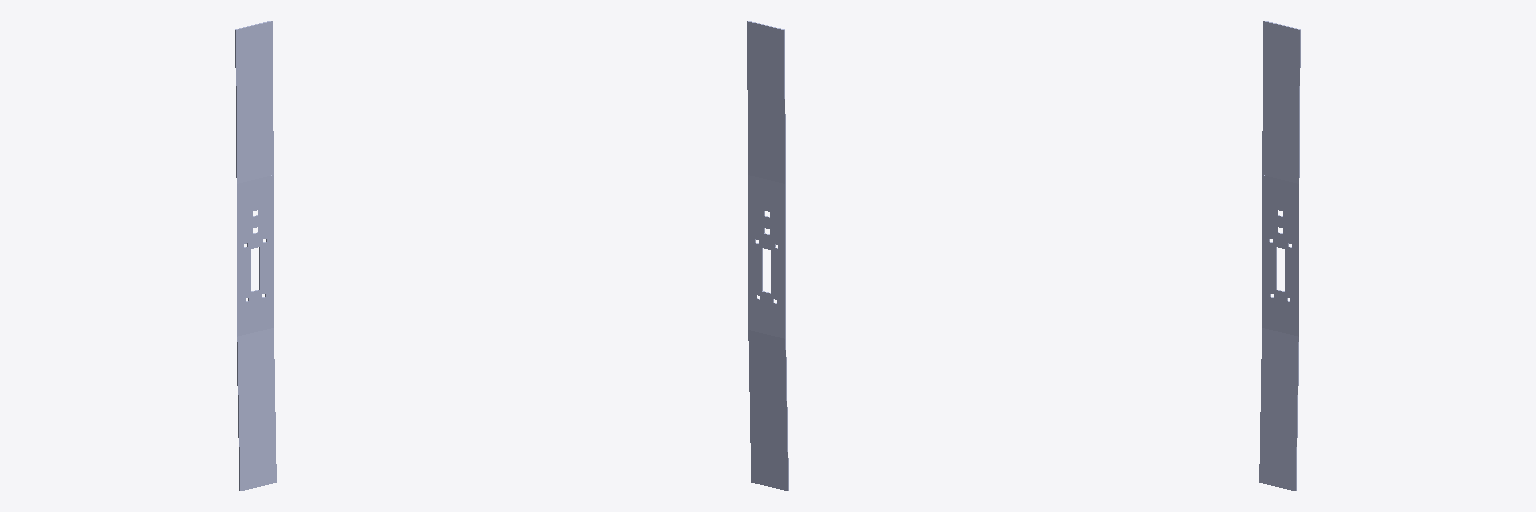
The robot description file, URDF, robot "Smarticle_v3":
<?xml version="1.0" encoding="utf-8"?>
<!-- This URDF was automatically created by SolidWorks to URDF Exporter! Originally created by [author] ([email redacted]) 
     Commit Version: 1.6.0-4-g7f85cfe  Build Version: 1.6.7995.38578
     For more information, please see http://wiki.ros.org/sw_urdf_exporter -->
<robot
  name="Smarticle_v3">
  <link
    name="base_linkv2">
    <contact>
        <lateral_friction value="0.15"/>
        <angular_friction value="0.3"/>
    </contact>
    <inertial>
      <origin
        xyz="-1.4344E-18 0.0004 0.00042795"
        rpy="0 0 0" />
      <mass
        value="0.0011628" />
      <inertia
        ixx="6.6584E-07"
        ixy="-6.5952E-26"
        ixz="-5.8585E-23"
        iyy="7.0794E-07"
        iyz="-2.635E-25"
        izz="4.2217E-08" />
    </inertial>
    <visual>
      <origin
        xyz="0 0 0"
        rpy="0 0 0" />
      <geometry>
        <mesh
          filename="../meshes/base_linkv2.STL" />
      </geometry>
      <material
        name="">
        <color
          rgba="0.79216 0.81961 0.93333 1" />
      </material>
    </visual>
    <collision>
      <origin
        xyz="0 0 0"
        rpy="0 0 0" />
      <geometry>
        <mesh
          filename="../meshes/base_linkv2.STL" />
      </geometry>
    </collision>
  </link>
  <link
    name="arm_leftv2">
    <contact>
        <lateral_friction value="0."/>
    </contact>
    <inertial>
      <origin
        xyz="6.4743188575433E-18 -0.00113539066808381 -0.00169513563308003"
        rpy="0 0 0" />
      <mass
        value="0.0024428" />
      <inertia
        ixx="1.3485795649656E-06"
        ixy="-9.63625619135692E-25"
        ixz="-6.56907102006461E-23"
        iyy="1.43243055204742E-06"
        iyz="-2.39392195336763E-08"
        izz="8.57927542515089E-08" />
    </inertial>
    <visual>
      <origin
        xyz="0 0 0"
        rpy="0 0 0" />
      <geometry>
        <mesh
          filename="../meshes/arm_leftv2.STL" />
      </geometry>
      <material
        name="">
        <color
          rgba="0.792156862745098 0.819607843137255 0.933333333333333 1" />
      </material>
    </visual>
    <collision>
      <origin
        xyz="0 0 0"
        rpy="0 0 0" />
      <geometry>
        <mesh
          filename="../meshes/arm_leftv2.STL" />
      </geometry>
    </collision>
  </link>
  <joint
    name="servo_leftv2"
    type="revolute">
    <origin
      xyz="0 0.0008 -0.04"
      rpy="0 0 0" />
    <parent
      link="base_linkv2" />
    <child
      link="arm_leftv2" />
    <axis
      xyz="-1 0 0" />
    <limit
      lower="0"
      upper="1.7"
      effort="0.01"
      velocity="6" />
  </joint>
  <link
    name="arm_rightv2">
    <contact>
        <lateral_friction value="0"/>
    </contact>
    <inertial>
      <origin
        xyz="-3.76466314275871E-17 -5.15811975585246E-05 0.00212340630696728"
        rpy="0 0 0" />
      <mass
        value="0.0024428" />
      <inertia
        ixx="1.3485795649656E-06"
        ixy="1.09407552500068E-24"
        ixz="-5.98109839421047E-23"
        iyy="1.43308255711055E-06"
        iyz="-1.13445872780218E-08"
        izz="8.51407491883854E-08" />
    </inertial>
    <visual>
      <origin
        xyz="0 0 0"
        rpy="0 0 0" />
      <geometry>
        <mesh
          filename="../meshes/arm_rightv2.STL" />
      </geometry>
      <material
        name="">
        <color
          rgba="0.792156862745098 0.819607843137255 0.933333333333333 1" />
      </material>
    </visual>
    <collision>
      <origin
        xyz="0 0 0"
        rpy="0 0 0" />
      <geometry>
        <mesh
          filename="../meshes/arm_rightv2.STL" />
      </geometry>
    </collision>
  </link>
  <joint
    name="servo_rightv2"
    type="revolute">
    <origin
      xyz="0 0.0008 0.04"
      rpy="0 0 0" />
    <parent
      link="base_linkv2" />
    <child
      link="arm_rightv2" />
    <axis
      xyz="-1 0 0" />
    <limit
      lower="0"
      upper="1.7"
      effort="0.01"
      velocity="6" />
  </joint>
</robot>

--- Render facts (derived) ---
Views: 3 orthographic renders of the robot side by side, from view 1: azimuth 30°, elevation 25°; view 2: azimuth 150°, elevation 25°; view 3: azimuth 330°, elevation 25°.
Model Smarticle_v3 with 3 links and 2 joints (2 revolute), rooted at base_linkv2, posed every joint at zero.
Links seen in each view (by area): view 1: arm_leftv2, arm_rightv2, base_linkv2; view 2: arm_rightv2, arm_leftv2, base_linkv2; view 3: arm_leftv2, arm_rightv2, base_linkv2.
Link boxes in pixels (x1,y1,x2,y2): arm_leftv2: (237, 328, 276, 490); arm_rightv2: (235, 21, 273, 183); base_linkv2: (237, 175, 273, 336); arm_rightv2: (747, 21, 785, 183); arm_leftv2: (748, 330, 788, 490); base_linkv2: (748, 175, 785, 338); arm_leftv2: (1259, 328, 1298, 490); arm_rightv2: (1262, 21, 1300, 183); base_linkv2: (1262, 175, 1298, 336).
Size in the robot's own frame: 0.02 by 0.0049 by 0.24 metres.
Meshes: 3 distinct files referenced, 3 mesh visuals loaded (3 binary STL).